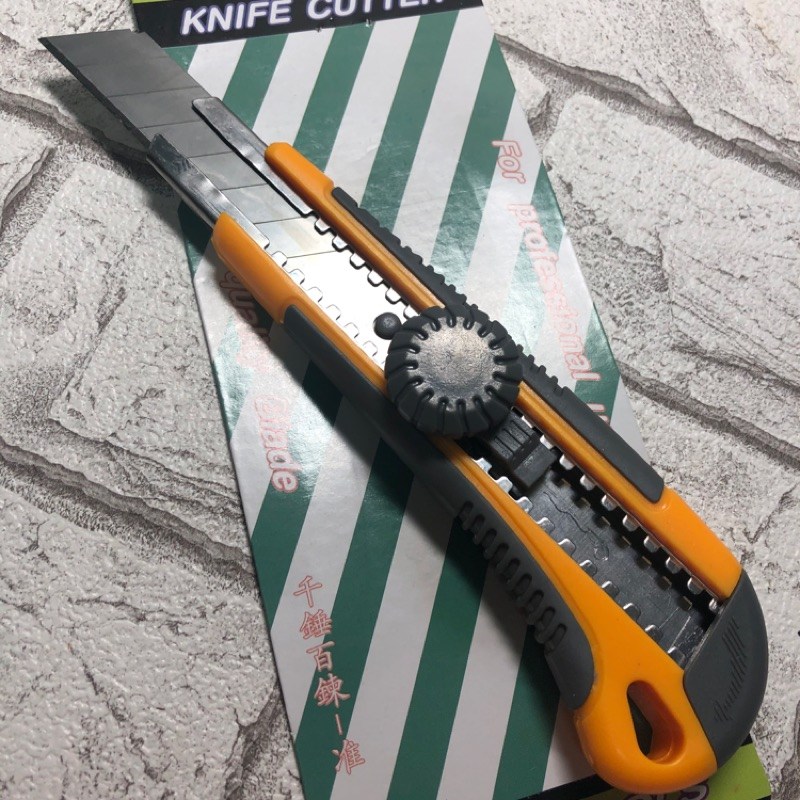cutter: (35, 31, 769, 796)
